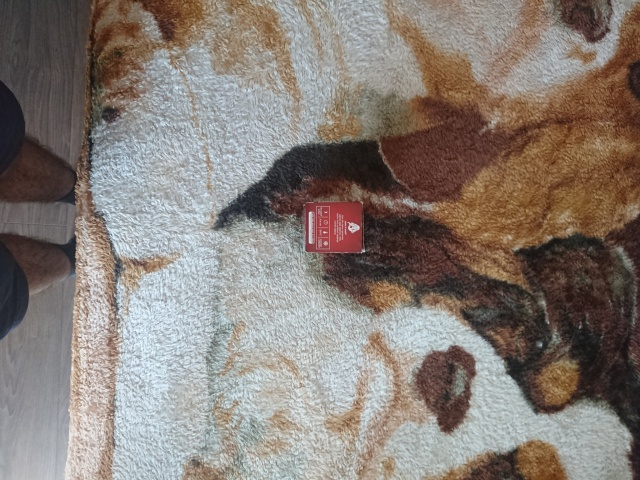Franck Apple Cinnamon Tea 60g: (303, 199, 365, 254)
